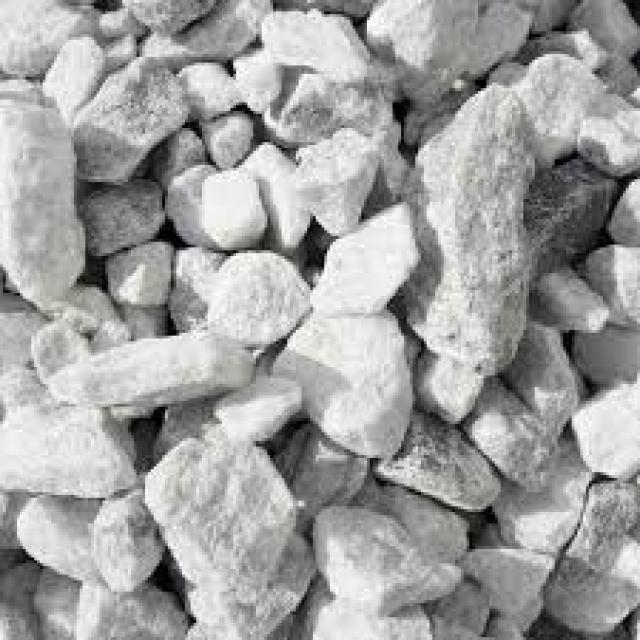Metamorphic: (2, 3, 628, 637)
